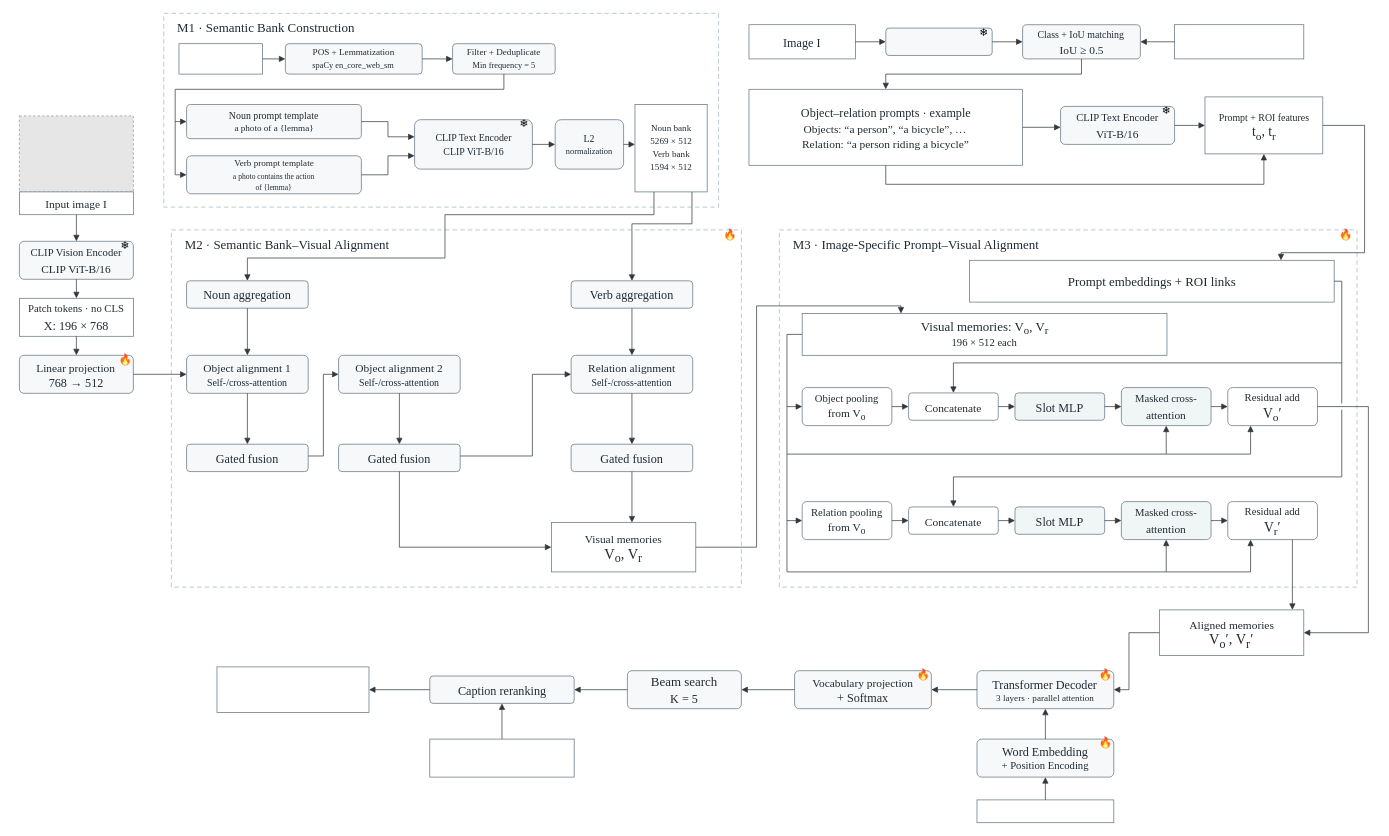
Some shapes in this 1389 by 836 pixel diagram are drawn without their labels. Grey dashed boxes stand in for pictures. Here are the shapes that lost their labels. From the top down, the centre of each, then its label:
pixel 220 58: TRAIN captions
pixel 938 41: UPT detector
pixel 1239 41: YOLO boxes
pixel 292 689: Generated caption
pixel 501 757: Image I + YOLO labels
pixel 1045 811: Caption prefix
